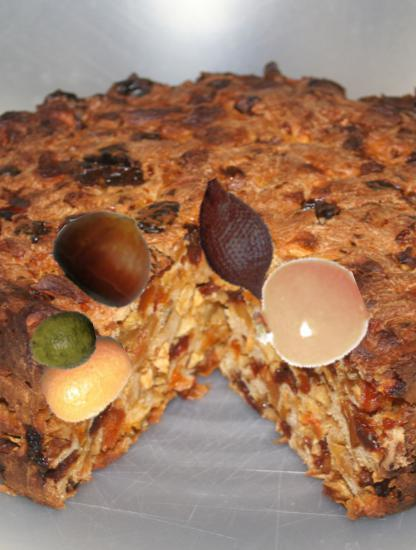Guava: (29, 308, 96, 375)
Kumquats: (38, 330, 135, 427)
Nut: (56, 203, 159, 306)
Physalis: (249, 256, 364, 371)
Salak: (170, 176, 300, 306)
